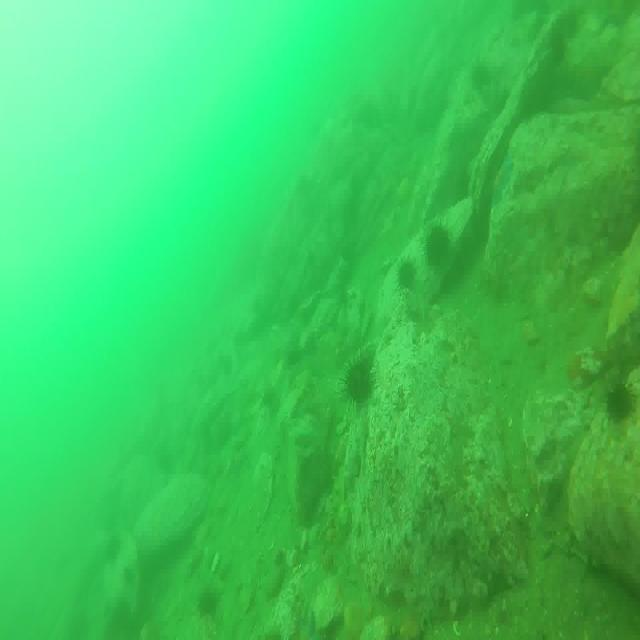echinus: (342, 356, 378, 404), (603, 375, 636, 424), (423, 220, 452, 268), (197, 584, 220, 624), (396, 255, 416, 285)
